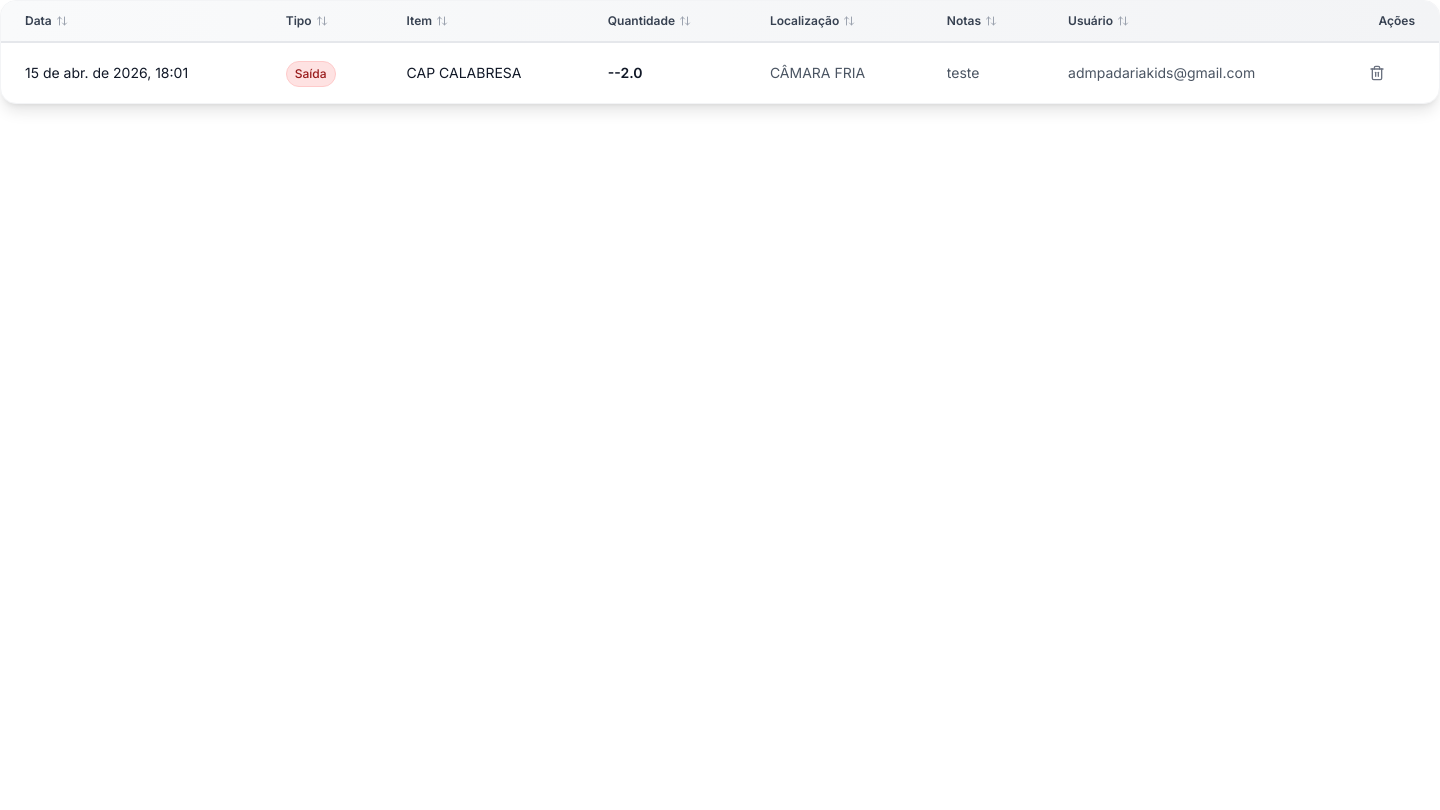
TransactionsList › opens a contextual delete modal when clicking the delete action
The image size is (1440, 810).
Click the button named "Delete transaction".
click(1376, 73)  # box [1358,55,1394,91]
(page scrolled)
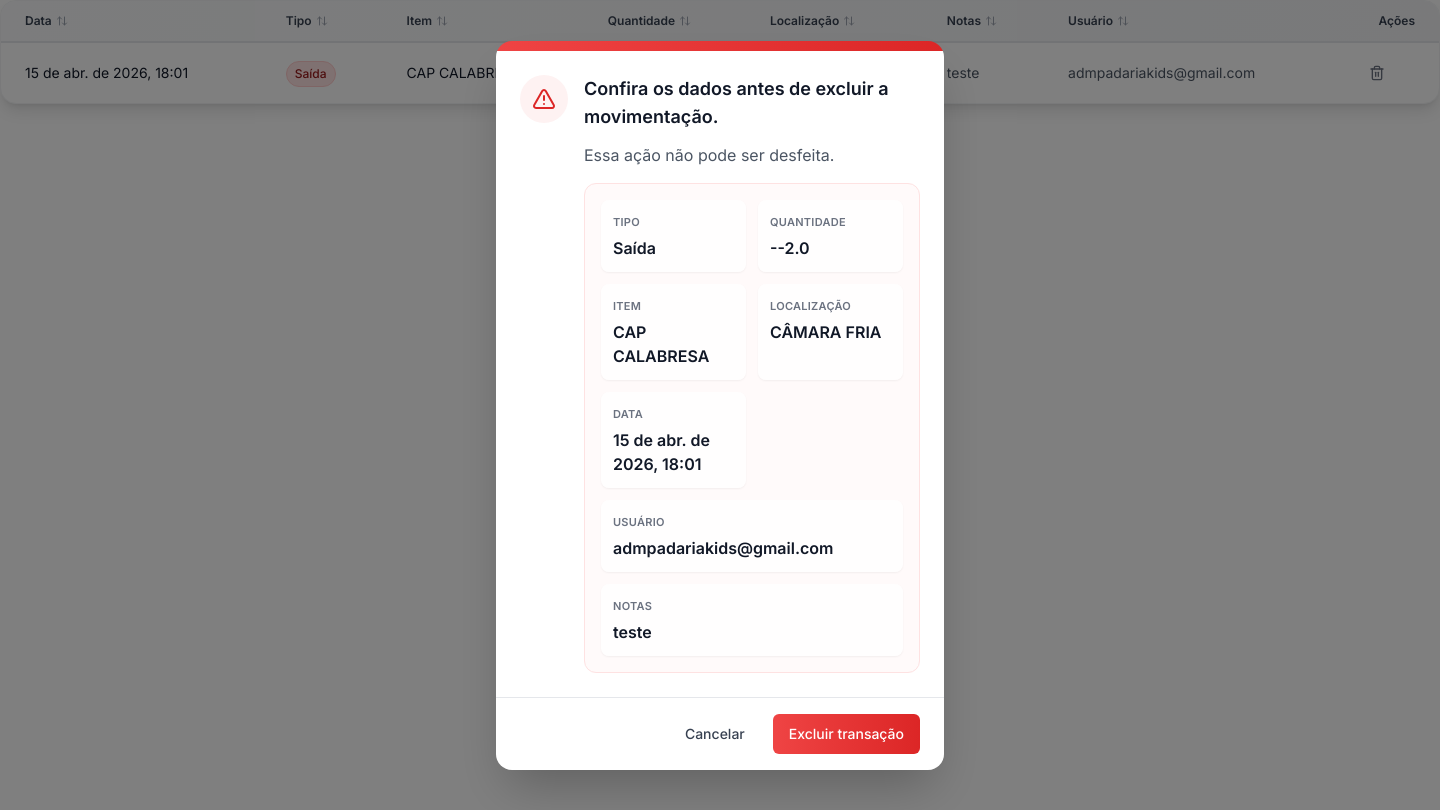
expect the text "CAP CALABRESA" is shown 2 times: met, box [383,42,584,103]; [613,322,709,366]
expect the text "Confira os dados antes de excluir a movimentação." is shown: met, box [584,74,920,130]
expect the button "Excluir transação" is shown: met, box [773,714,920,754]
